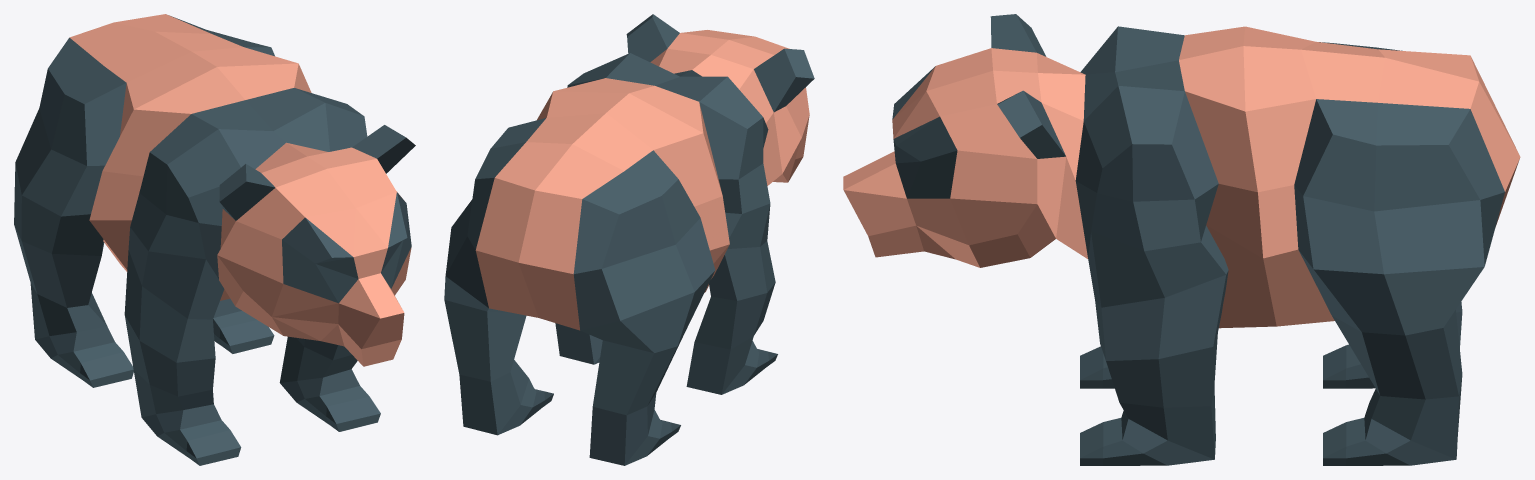
File: animal_020.fbx
3 renders of one model, left to right at view 1: azimuth 30°, elevation 25°; view 2: azimuth 150°, elevation 25°; view 3: azimuth 270°, elevation 25°, orthographic. The views are drawn at different scales.
Visible parts, largest first — view 1: animal.020; view 2: animal.020; view 3: animal.020.
Part boxes in pixels (x1,y1,x2,y2): animal.020: [14, 14, 415, 465]; animal.020: [444, 14, 814, 465]; animal.020: [843, 14, 1520, 465].
Bounding box in the file's own units: 142 × 165 × 272.
1 material, 1 textured.
